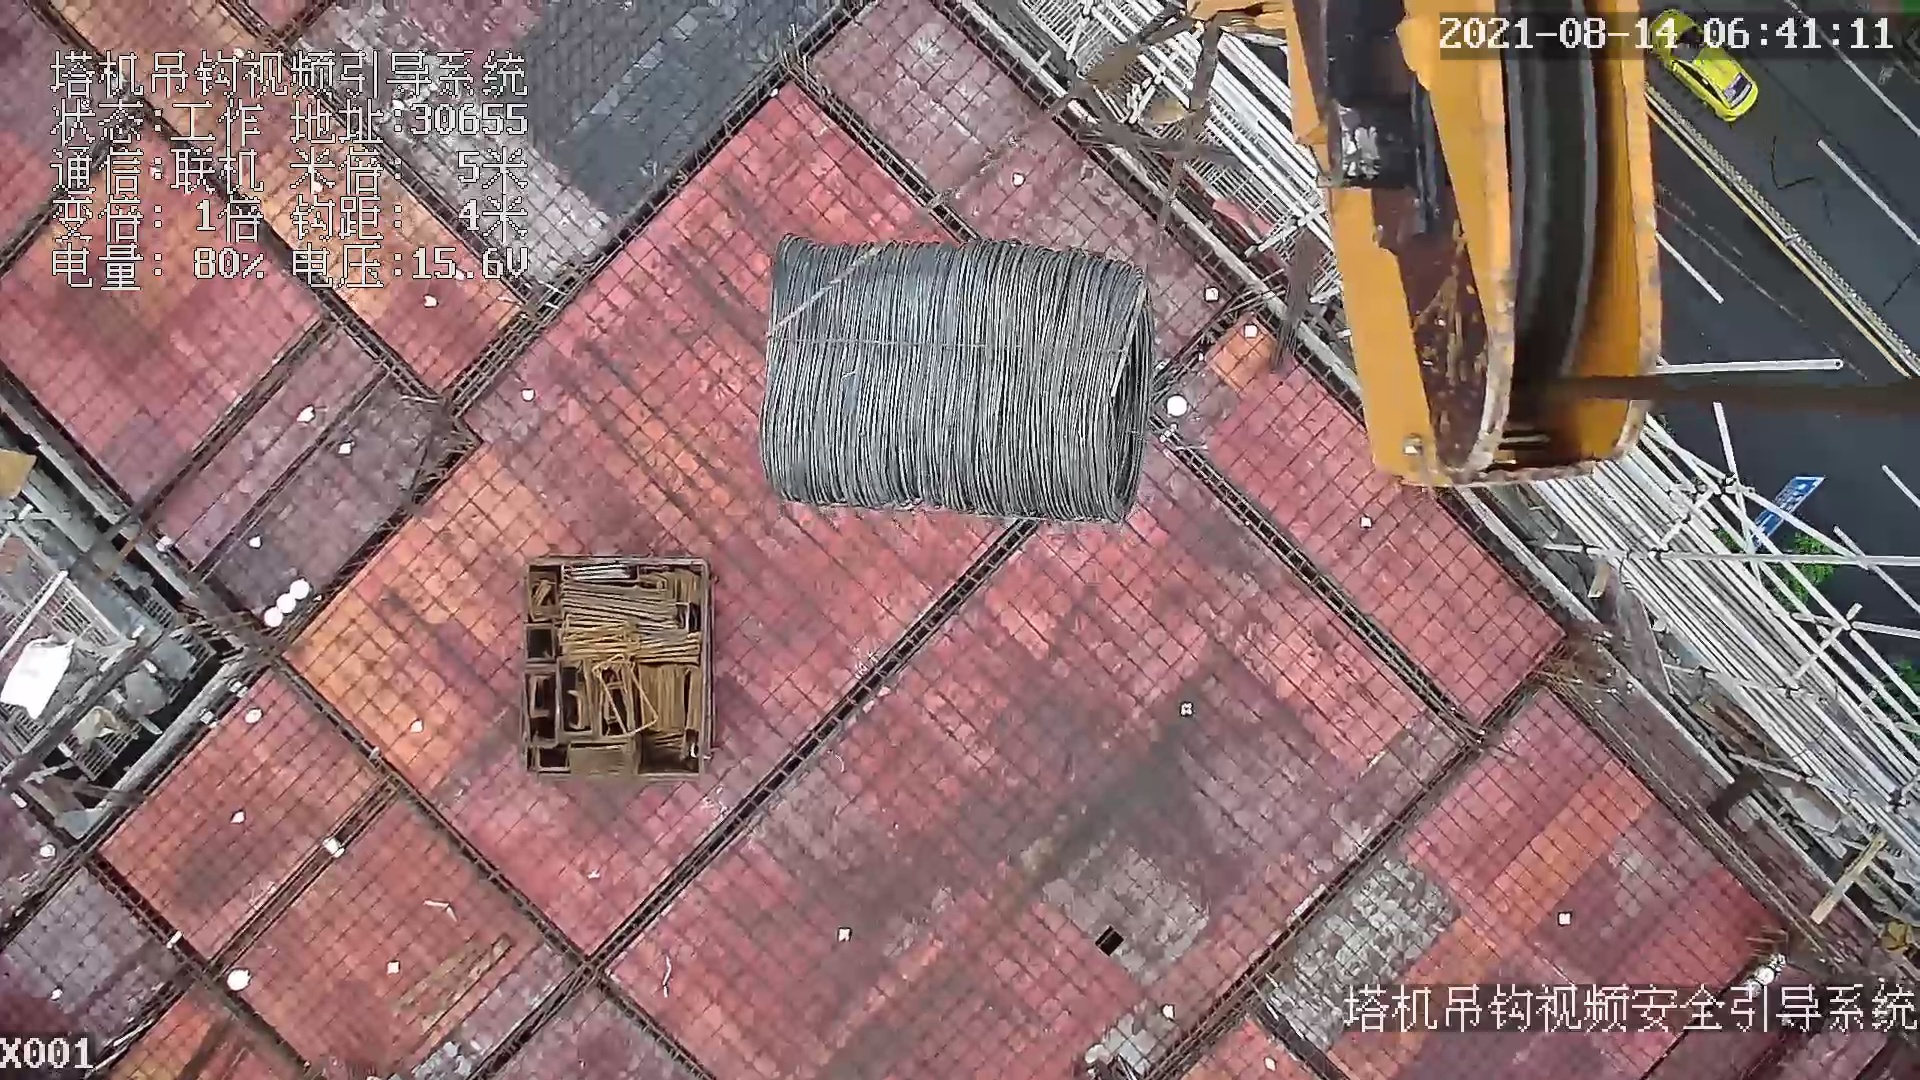hook: (1176, 1, 1687, 476)
